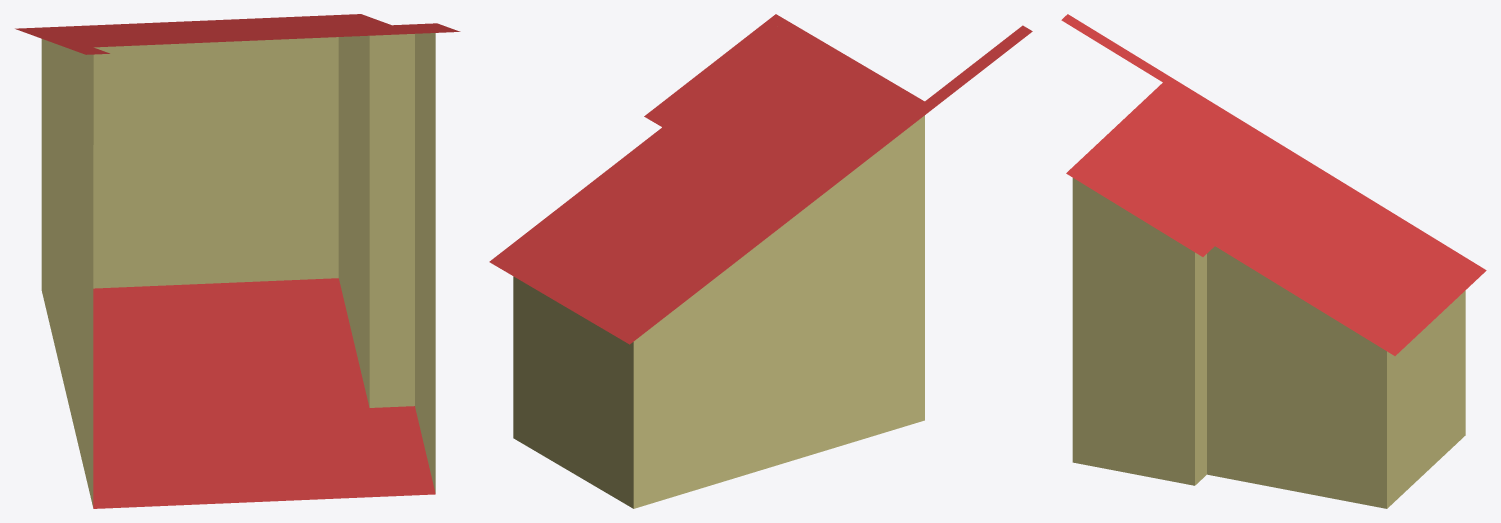
3 renders of one model, left to right at view 1: azimuth 30°, elevation 25°; view 2: azimuth 150°, elevation 25°; view 3: azimuth 270°, elevation 25°, orthographic. The views are drawn at different scales.
Bounding box in the file's own units: 12.25 × 13.29 × 11.65.
